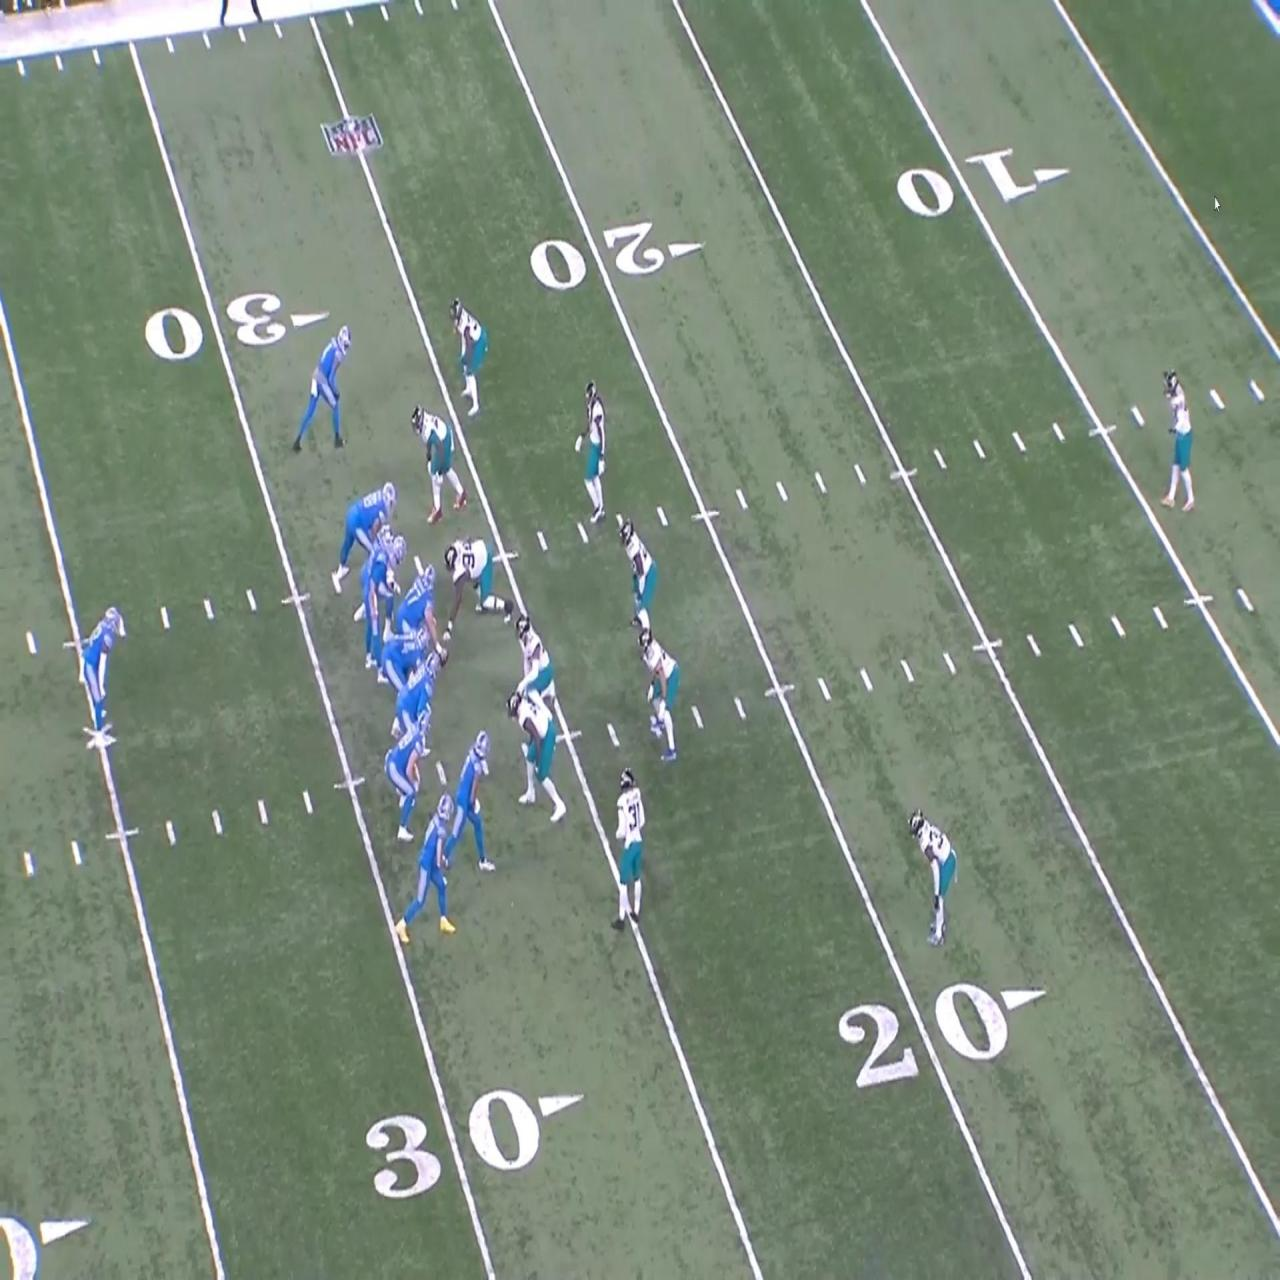10R: (897, 148, 1071, 221)
20R: (838, 984, 1047, 1090), (530, 219, 705, 292)
30R: (366, 1088, 585, 1202), (145, 290, 330, 362)
